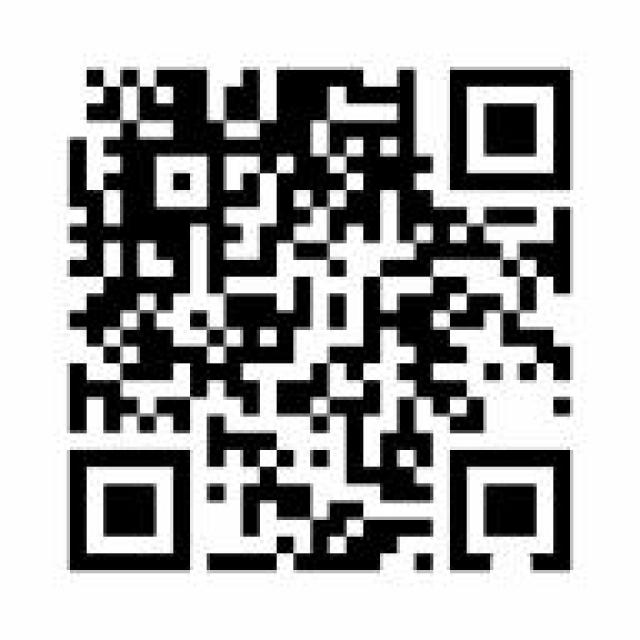QR_CODE: (47, 46, 590, 586)
